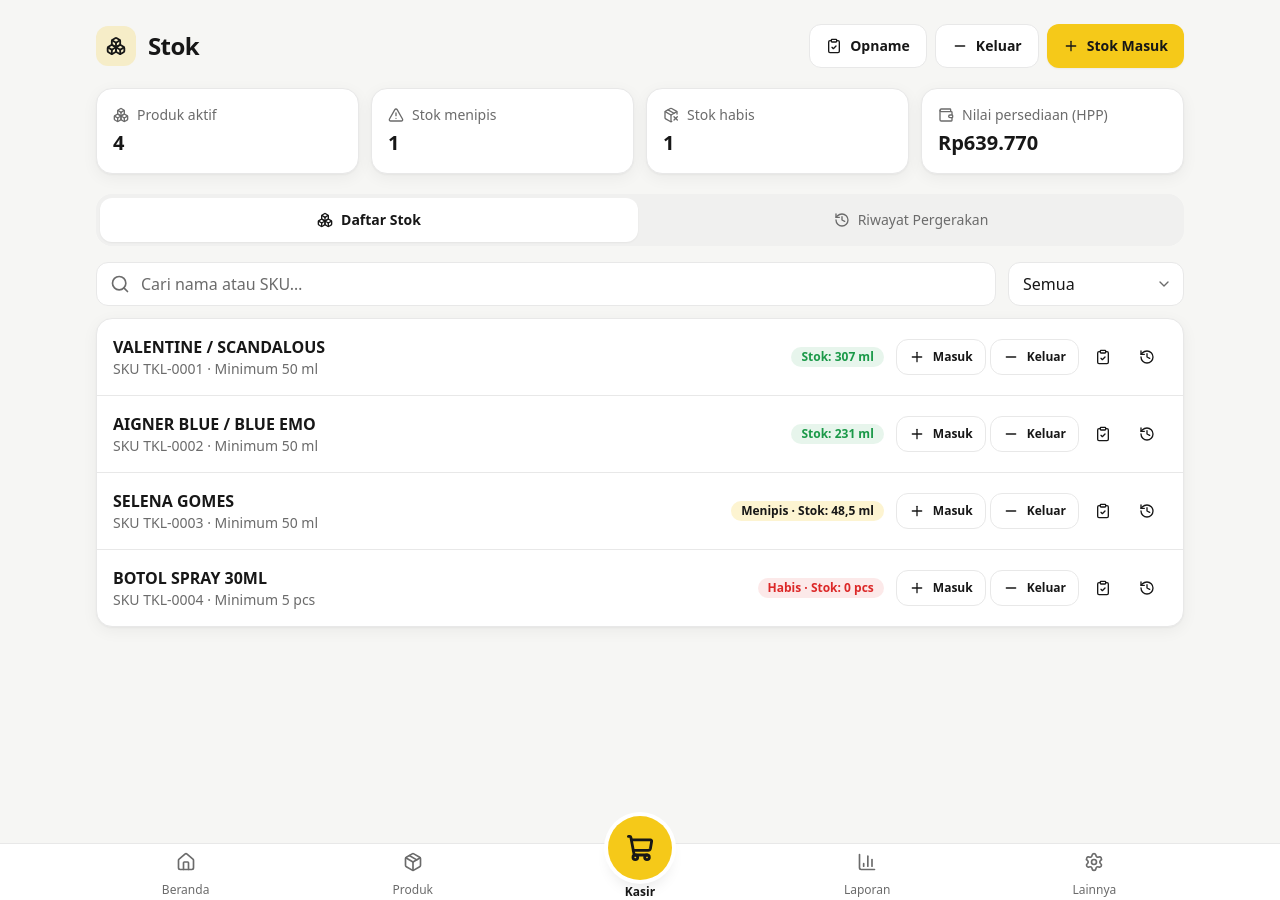
Test: Halaman Stok › kirim ulang setelah error memakai idempotency key yang sama (tidak menggandakan stok)
expect the tab "Daftar Stok" is shown: met, box [100,198,638,242]
Click the button with aria-label "Stok masuk AIGNER BLUE / BLUE EMO" at (941, 434), box [896,416,986,452]
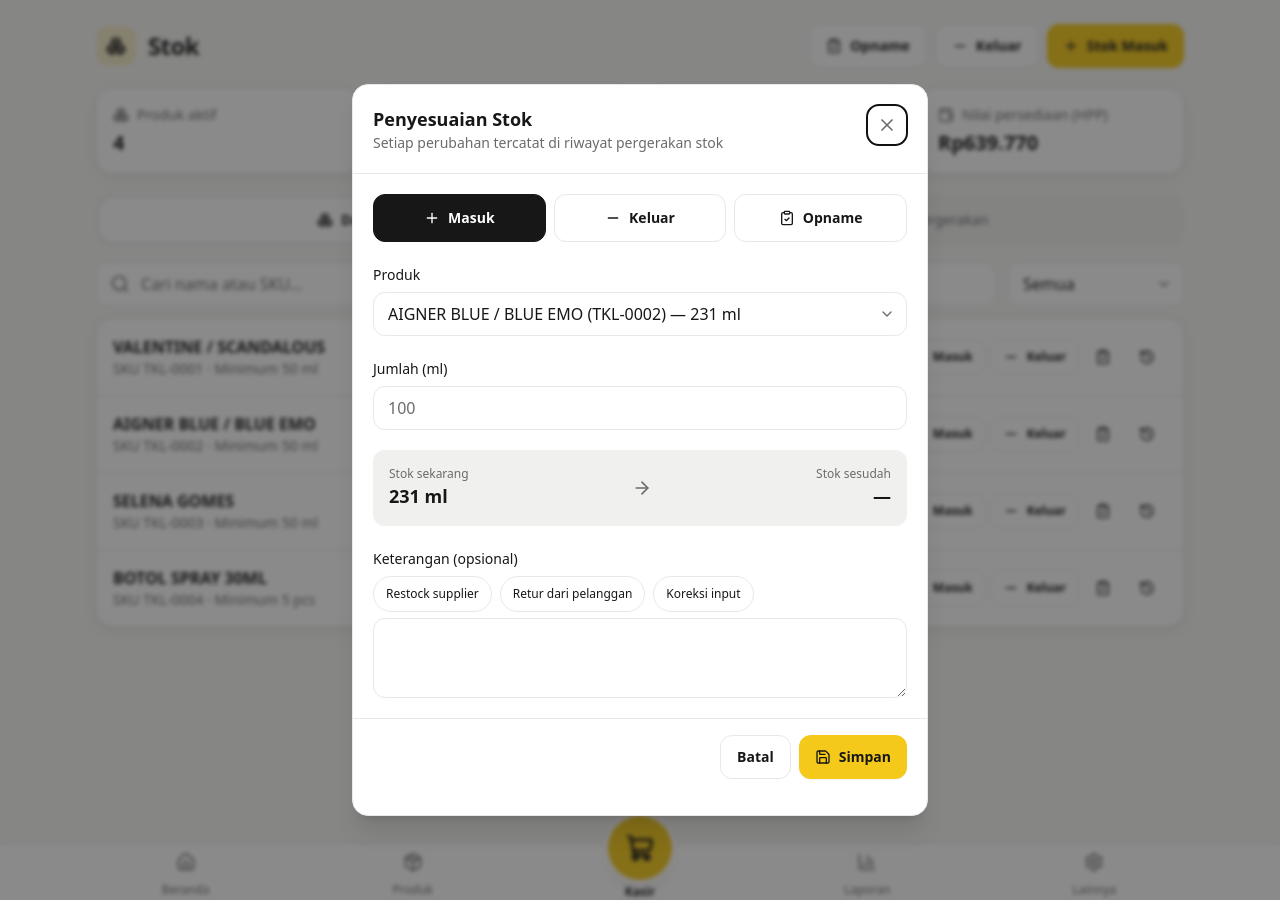
Type "10" into the field labelled "Jumlah (ml)" at (640, 408), box [373,386,907,430]
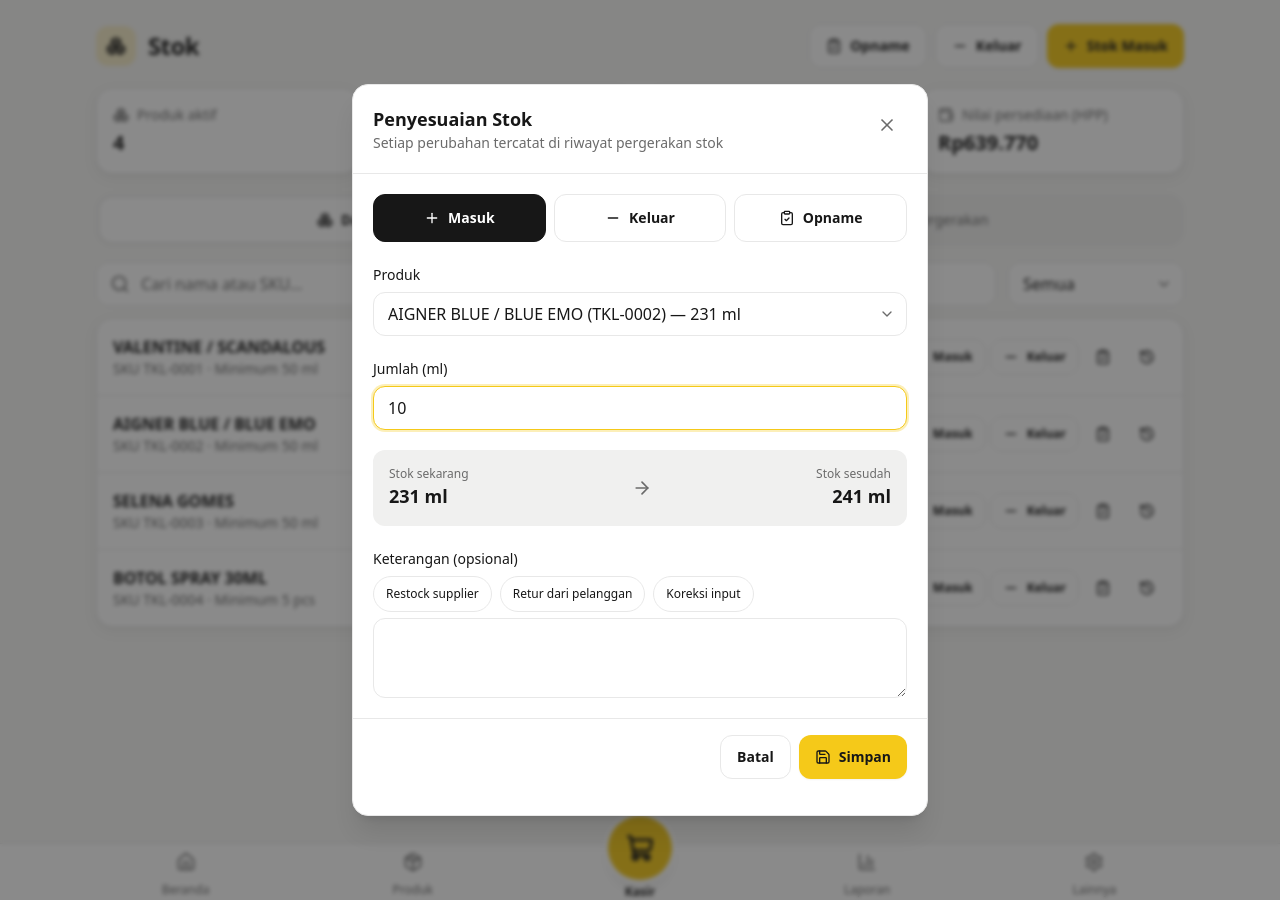
Click the button "Simpan" at (853, 757), box [799,735,907,779]
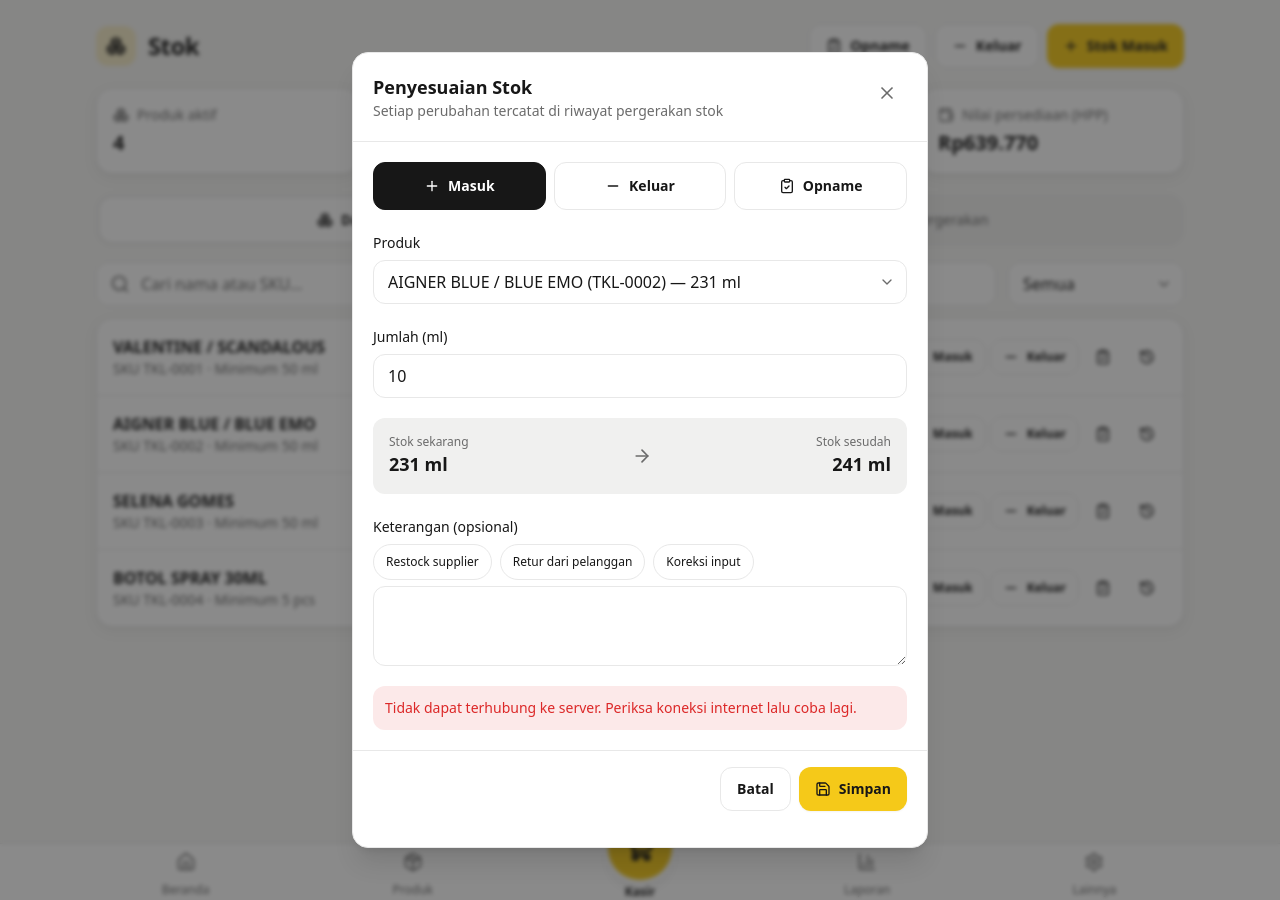
expect the message shows "Tidak dapat terhubung ke server": met, box [385,698,857,717]
Click the button "Simpan" at (853, 789), box [799,767,907,811]
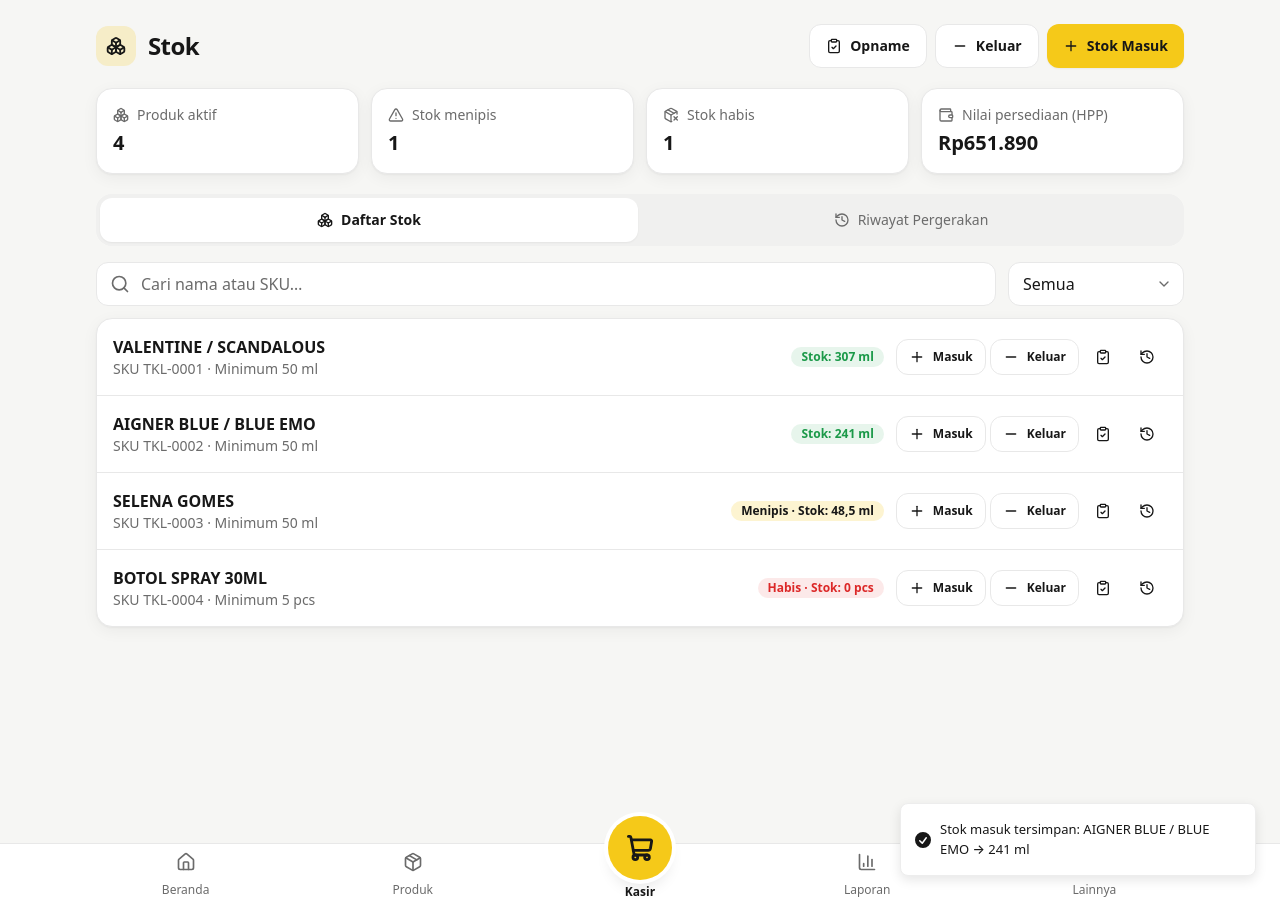
expect the dialog is gone: met
